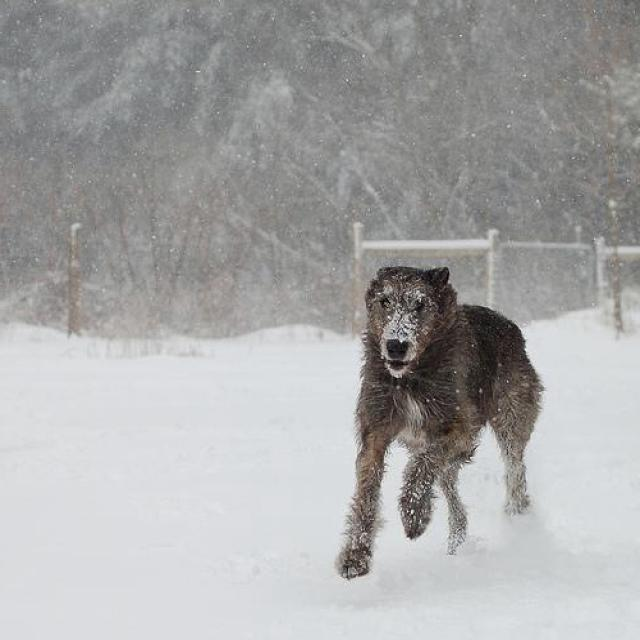irish_wolfhound: (334, 264, 542, 578)
